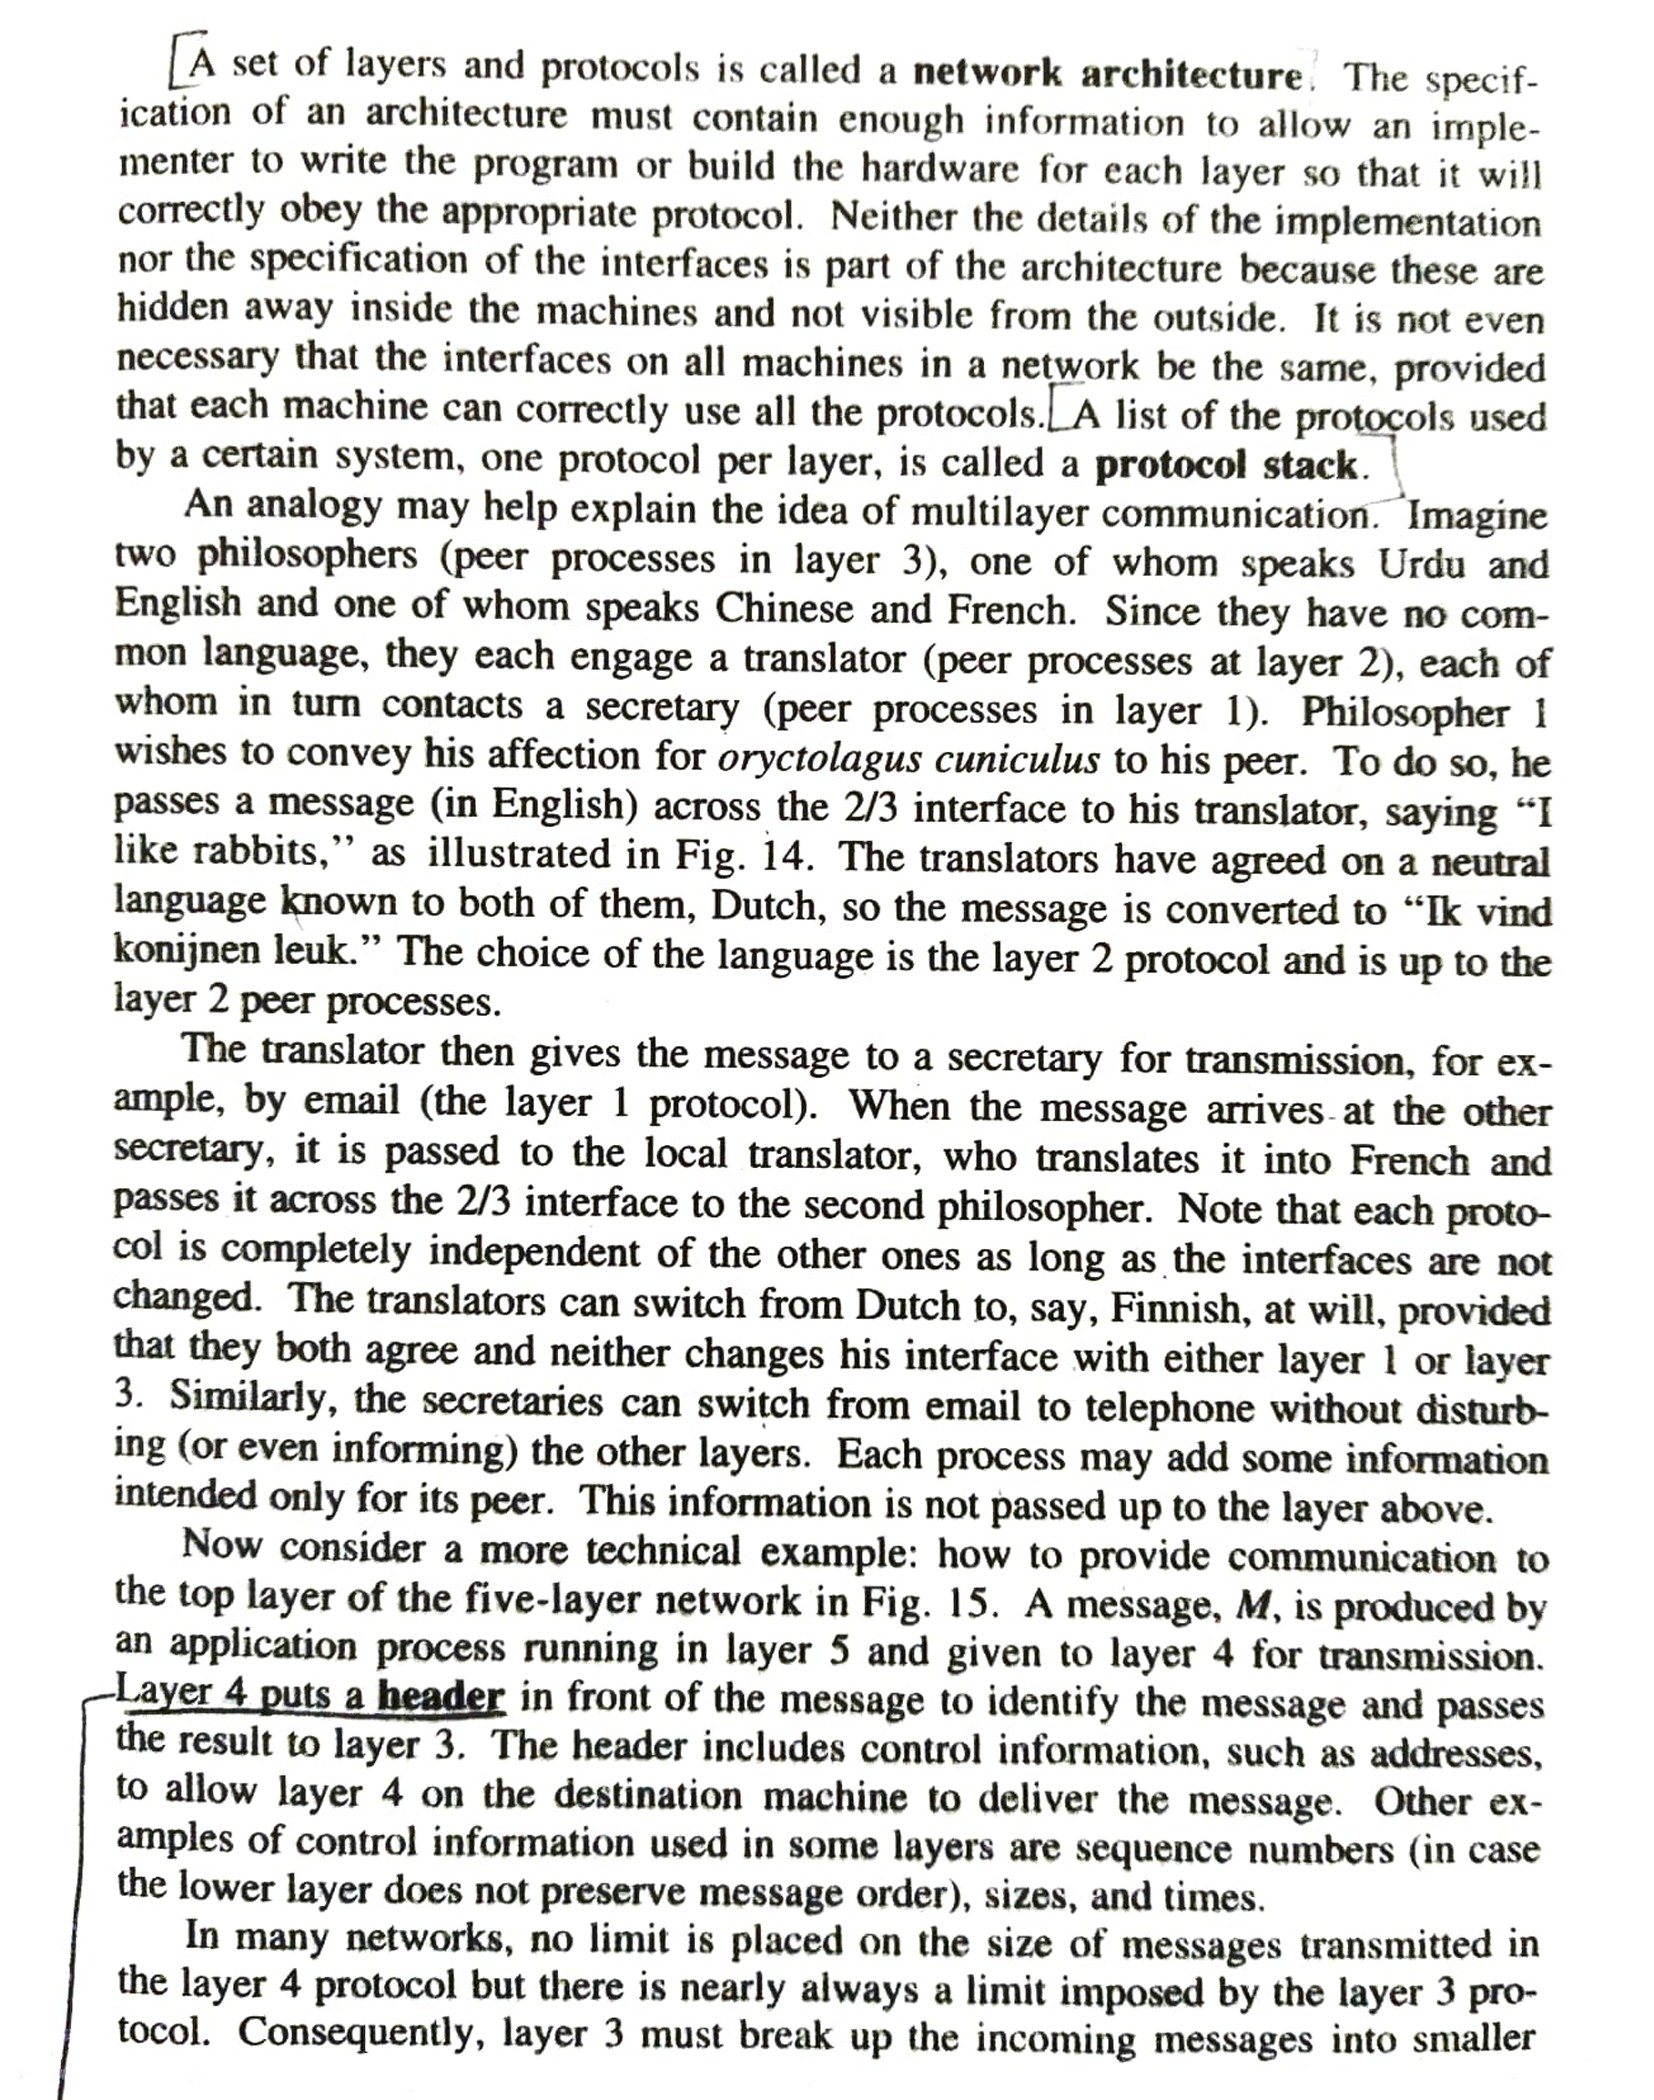BB1: (85, 9, 1572, 487)
BB2: (92, 484, 1572, 1024)
BB3: (92, 1012, 1582, 1531)
BB4: (92, 1527, 1581, 2073)
